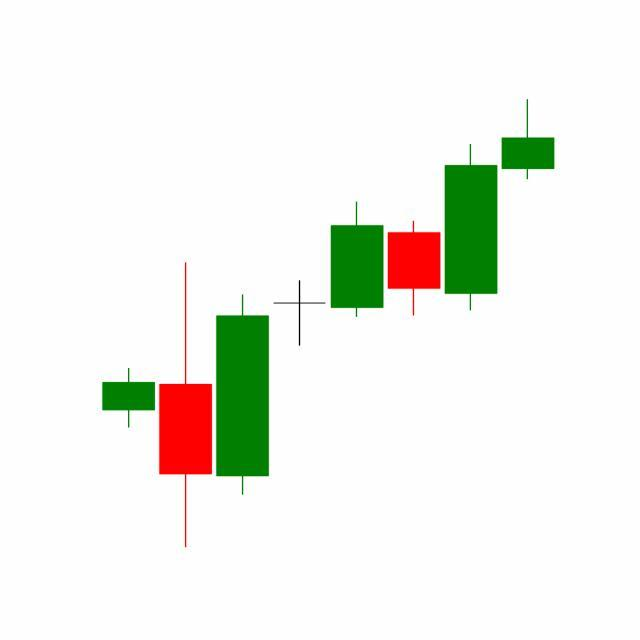Hikkake Pattern: (214, 141, 501, 500)
